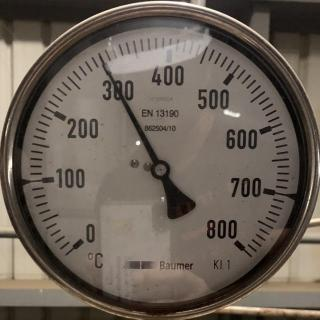gauge: (3, 1, 320, 315), (61, 220, 103, 262), (225, 228, 250, 256), (149, 158, 171, 180), (94, 50, 106, 62)
